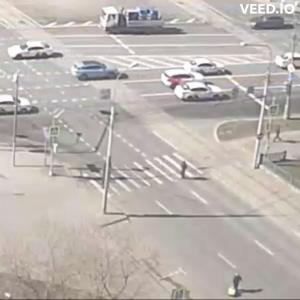car: (97, 4, 169, 38), (175, 83, 228, 104), (73, 63, 120, 82), (11, 45, 61, 62), (163, 70, 203, 90), (2, 96, 40, 116), (253, 16, 294, 33), (189, 64, 231, 79), (276, 53, 300, 73), (1, 96, 20, 115)
